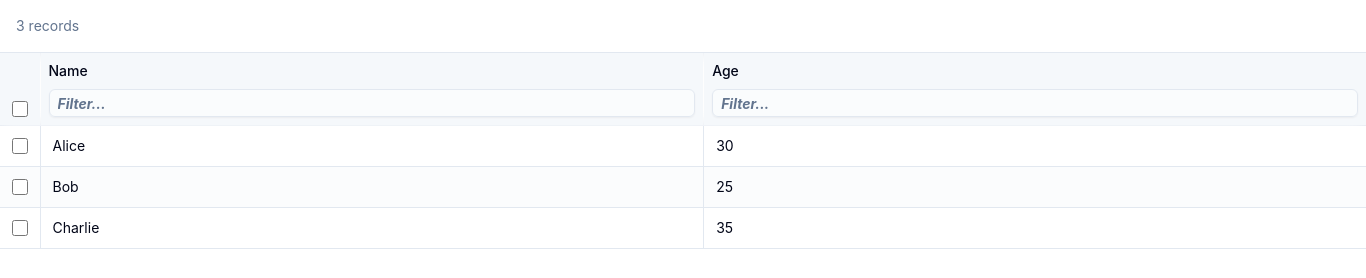
Test: DataTable › handles row selection
What coordinates should you click on to do the following:
click the checkbox next to "Alice"
I would click on:
 (20, 146)
Its box is [12,138,28,154].
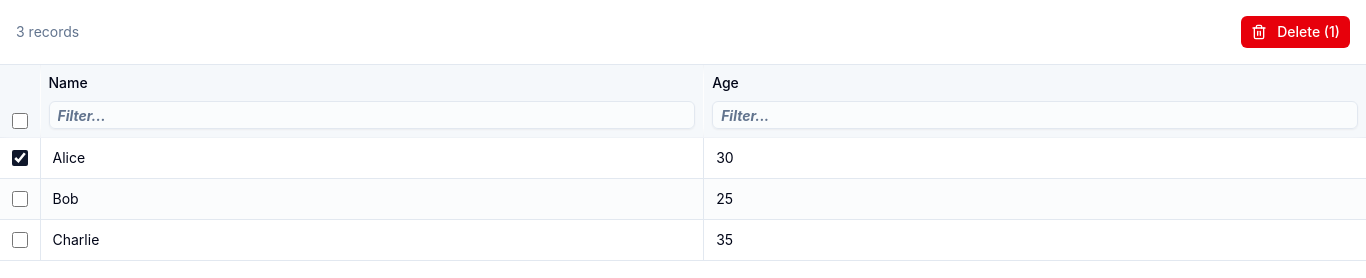
Expected: the button "Delete (1)" is shown, [1241,16,1350,48]
